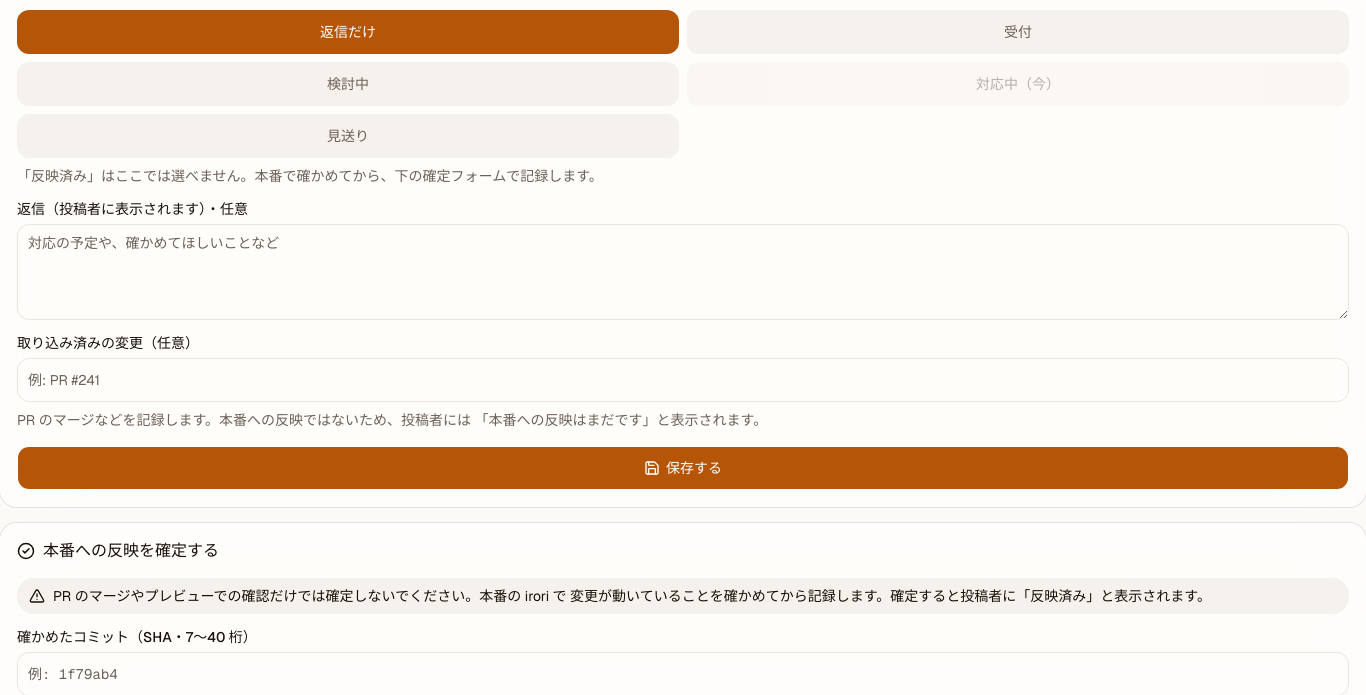
Test: 本番反映の確定フォーム › 本番確認のチェックと SHA が揃うまで押せぬ
Type "abcdef1" into the field labelled "確かめたコミット（SHA・7〜40 桁）" at point(683, 674), box [17,652,1349,694]
(page scrolled)
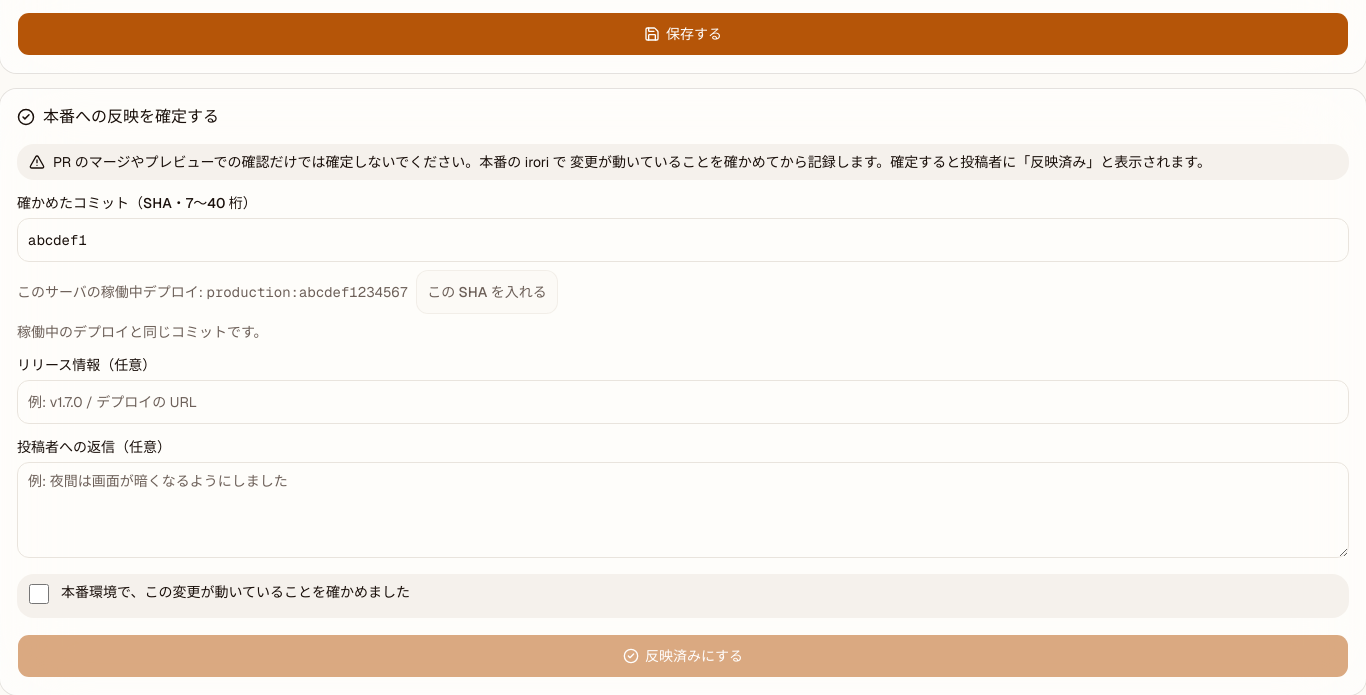
Expected: the button "反映済みにする" is disabled, [17,634,1349,678]
Click the checkbox labelled "本番環境で、この変更が動いていることを確かめました" at point(39, 594), box [29,584,49,604]
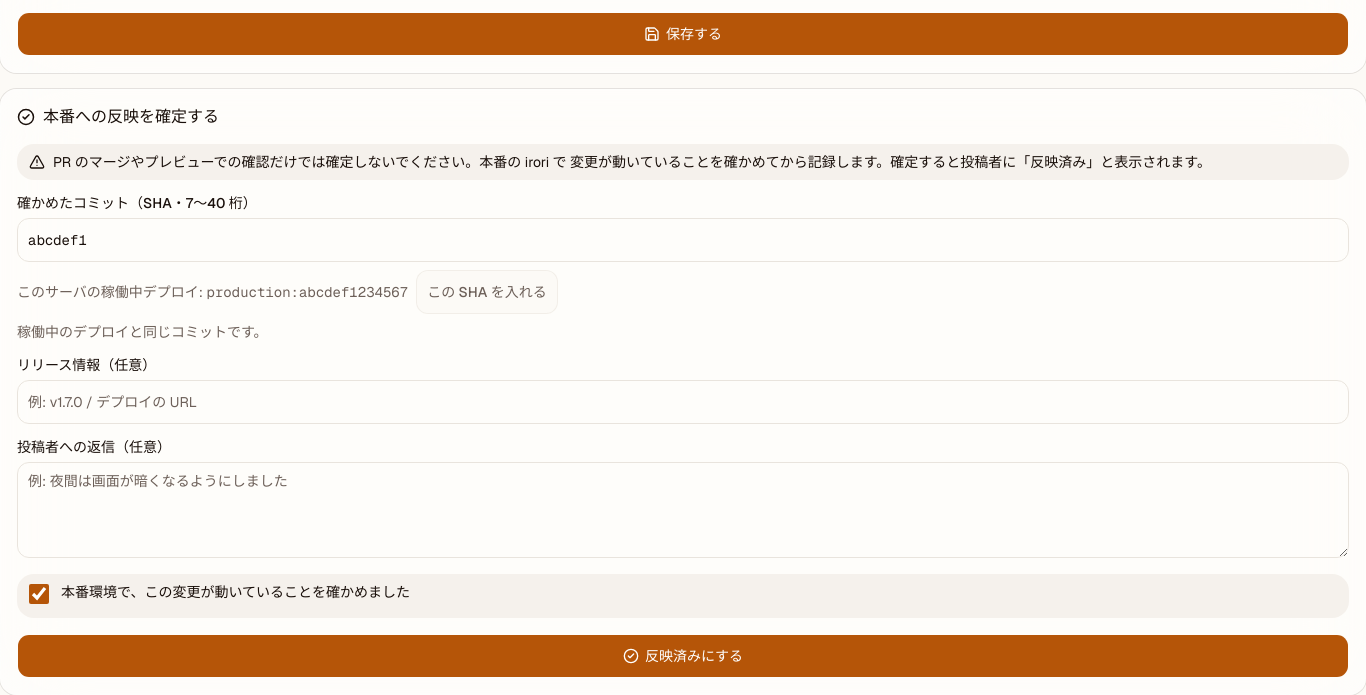
Expected: the button "反映済みにする" is enabled, [17,634,1349,678]
Replace the text in the field labelled "確かめたコミット（SHA・7〜40 桁）" with "main" at point(683, 240), box [17,218,1349,262]
(page scrolled)
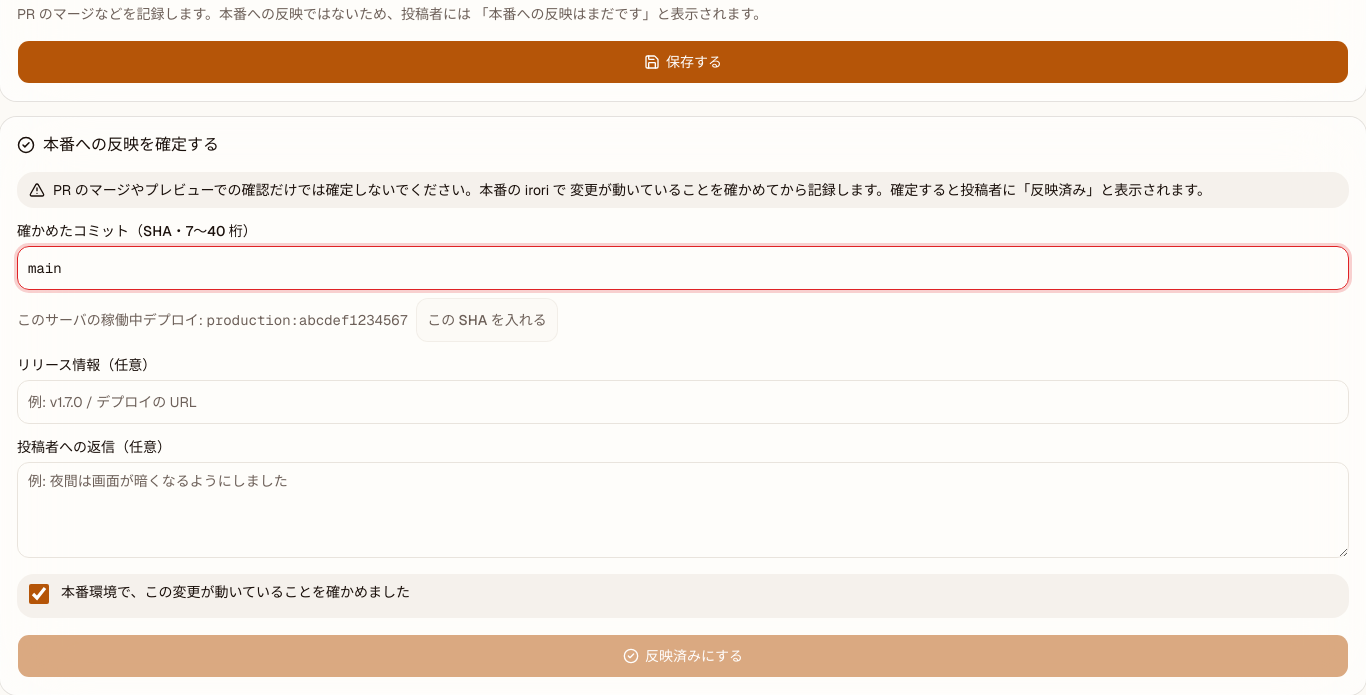
Expected: the button "反映済みにする" is disabled, [17,634,1349,678]
